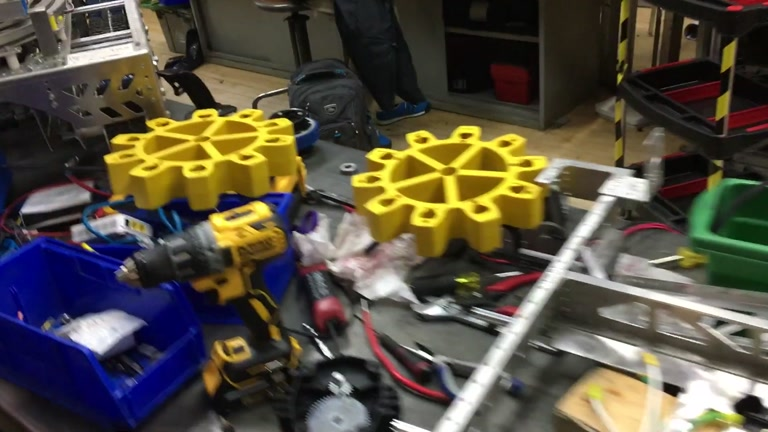gear: (350, 125, 545, 256), (103, 107, 295, 211)
